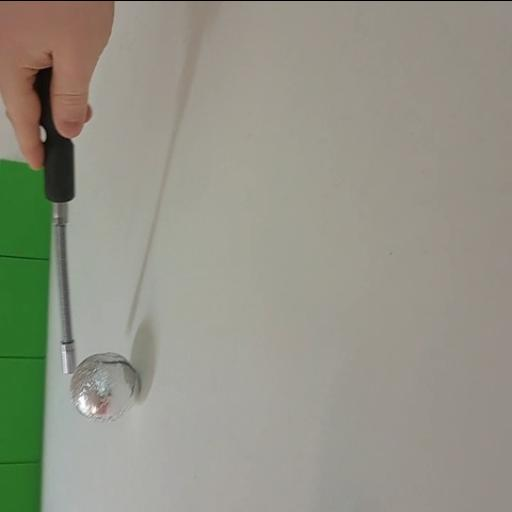alive: (70, 350, 140, 423)
